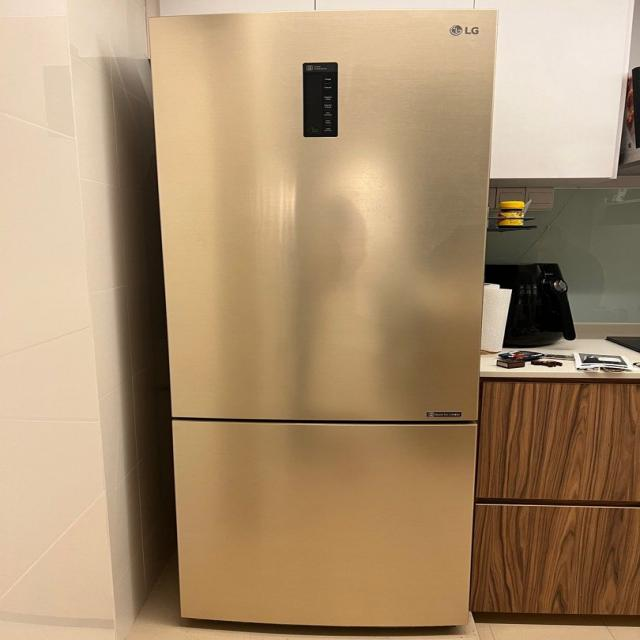refrigerator: (142, 8, 504, 630)
